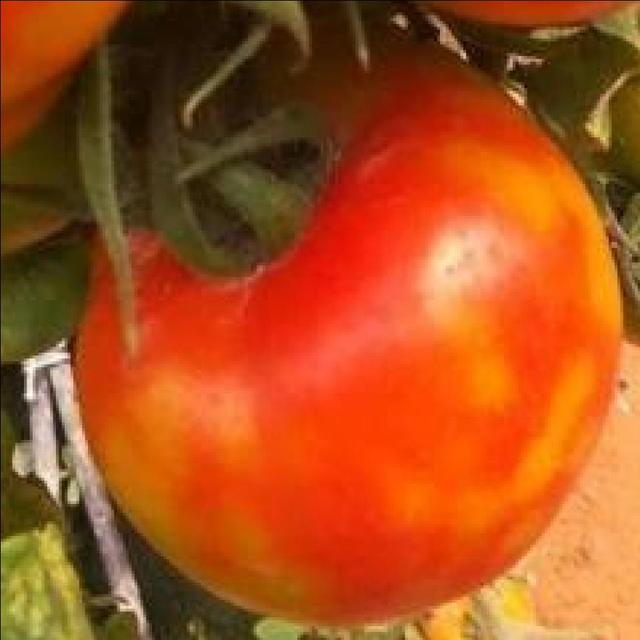Spotted wilt Virus Fruit: (49, 16, 415, 419)
